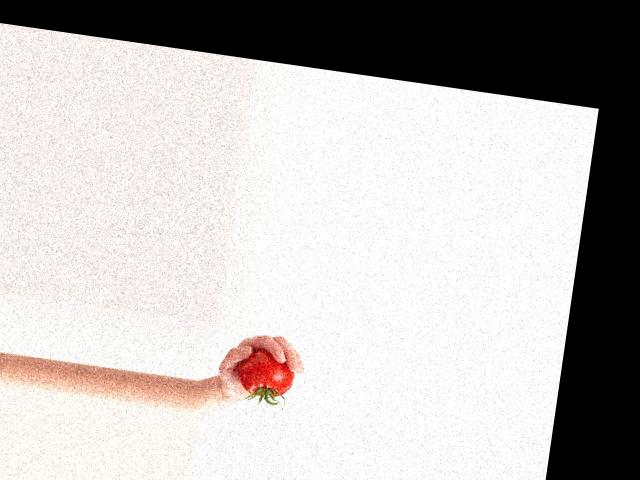tomato: (236, 346, 297, 400)
